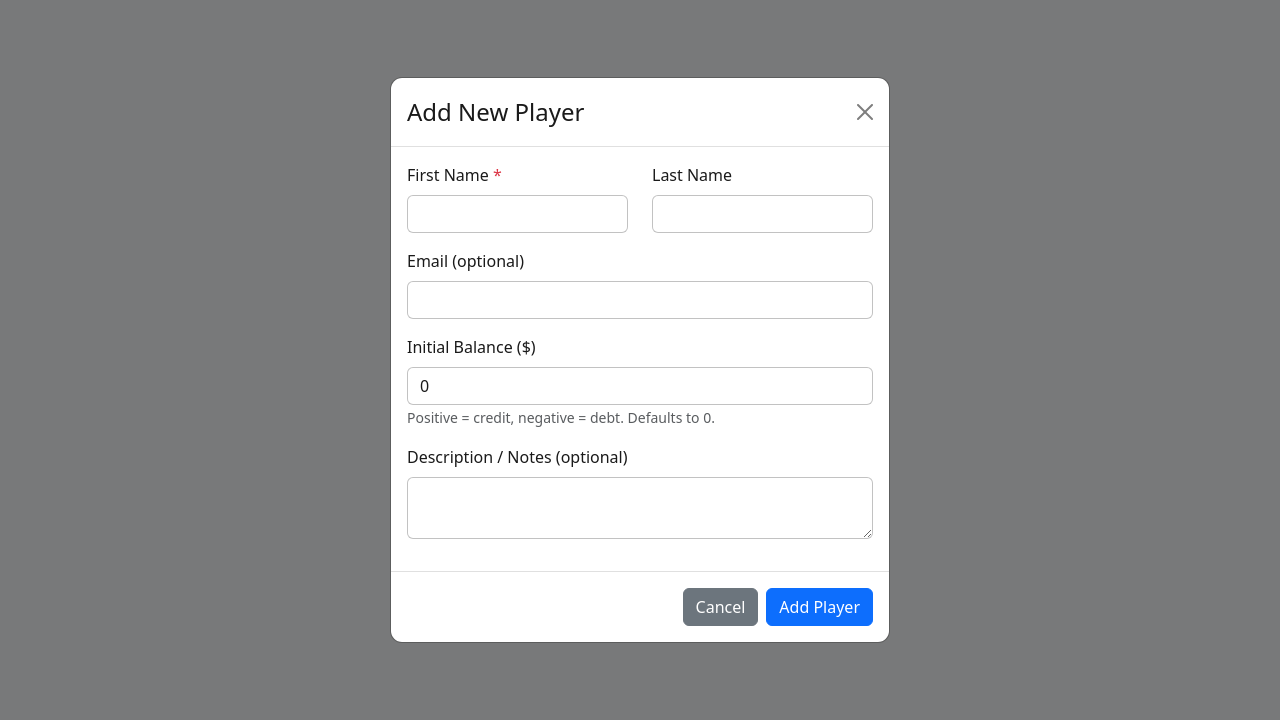
Test case: AddPlayerModal › requires a last name to disambiguate a duplicate first name
The width and height of the screenshot is (1280, 720).
Step 1. Type "Ada" into the field labelled "First Name *" → (518, 214), box [407, 195, 628, 233]
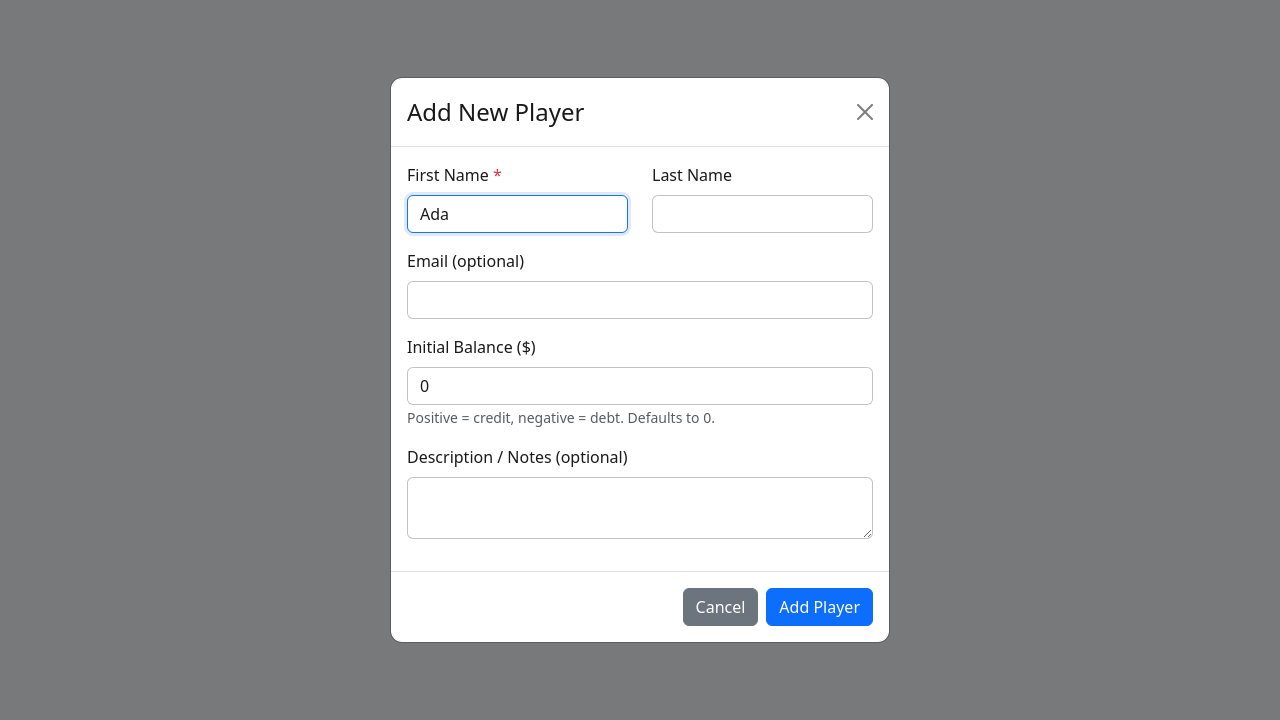
Step 2. Click the button "Add Player" → (820, 607), box [766, 588, 873, 626]
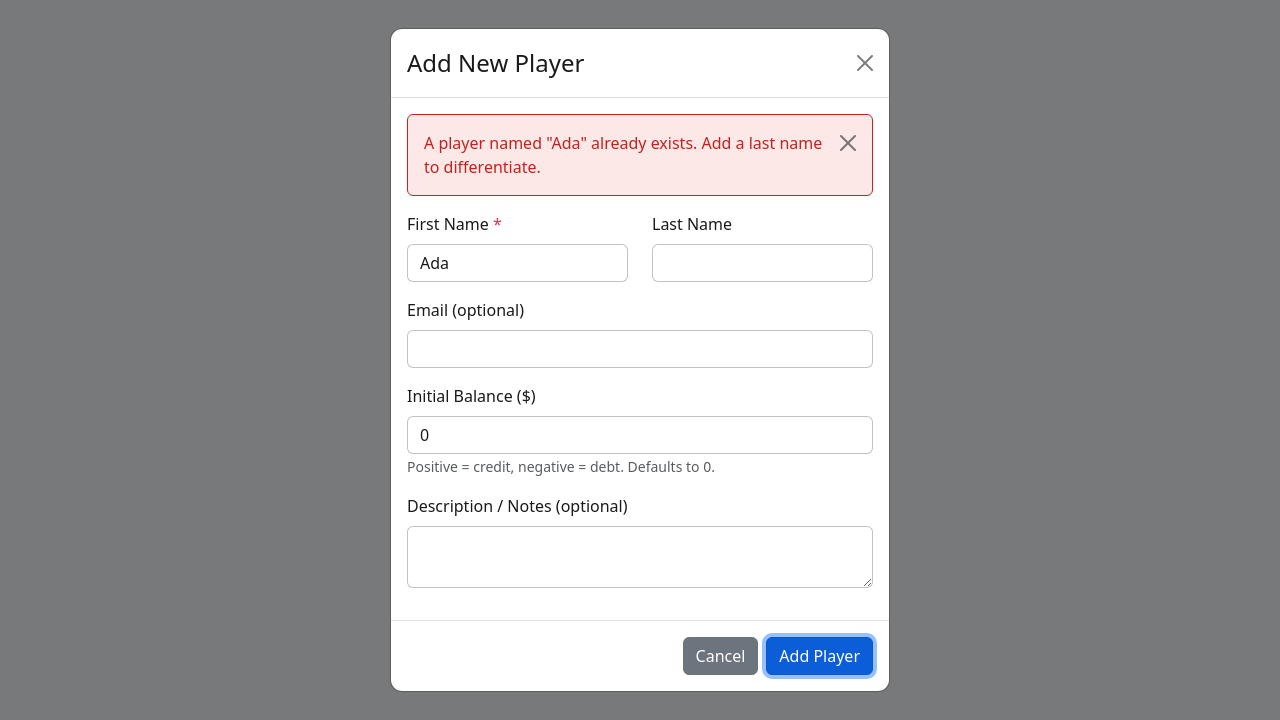
Expected: the text "A player named \"Ada\" already exists. Add a last name to differentiate." is shown, [407, 114, 873, 196]
